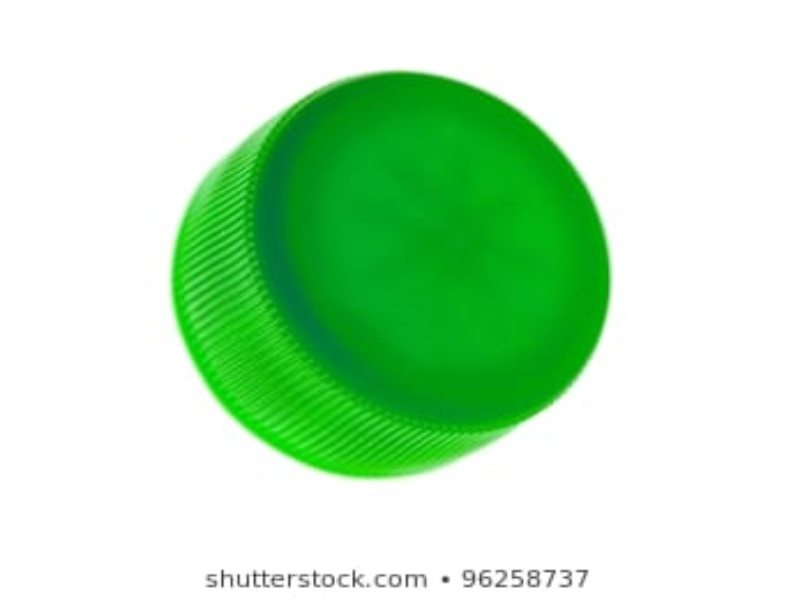bottle-cap: (160, 67, 608, 475)
